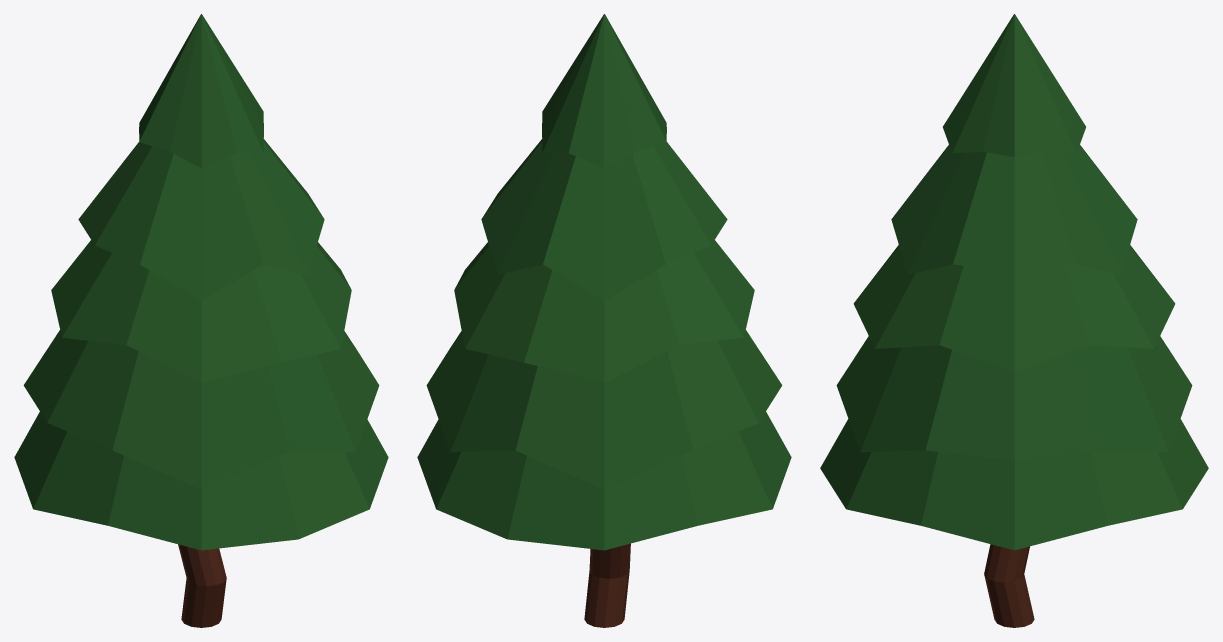
The model's file is елка_6.fbx.
The picture shows the model from 3 angles, left to right: view 1: azimuth 30°, elevation 25°; view 2: azimuth 150°, elevation 25°; view 3: azimuth 270°, elevation 25°; orthographic projection.
Parts seen in each view (by area): view 1: елка_1; view 2: елка_1; view 3: елка_1.
Part boxes in pixels (x1=…): елка_1: x1=14, y1=14, x2=388, y2=627; елка_1: x1=417, y1=14, x2=791, y2=627; елка_1: x1=820, y1=14, x2=1208, y2=627.
Size of the model in its own units: 173 by 297 by 173.
